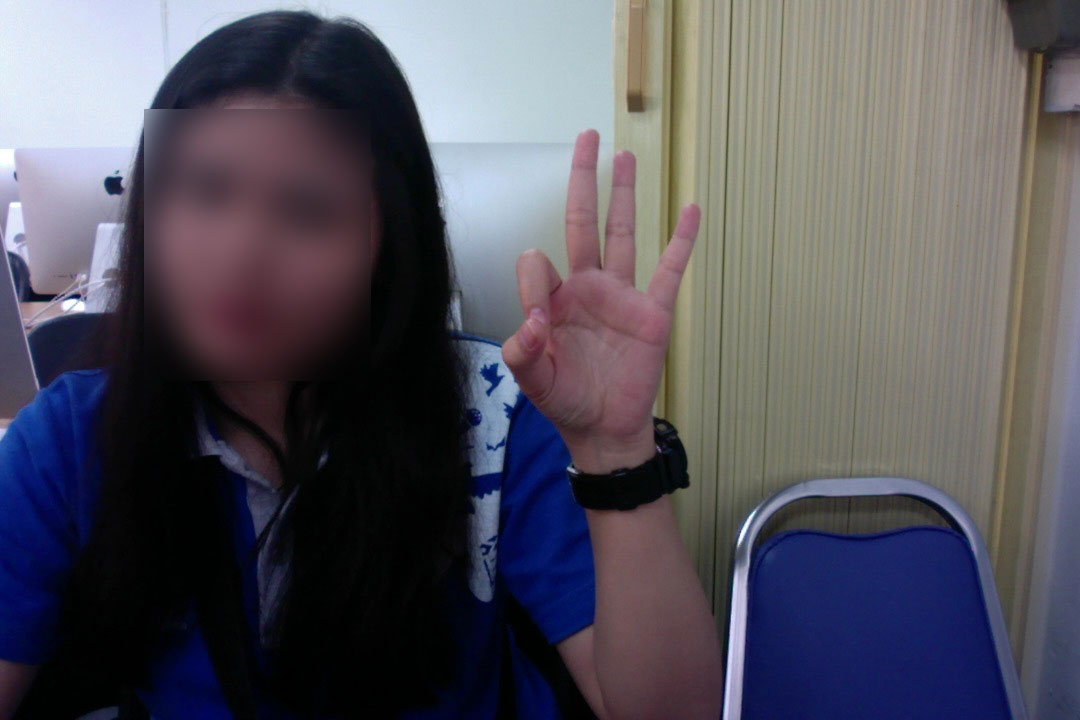for: (465, 103, 731, 491)
